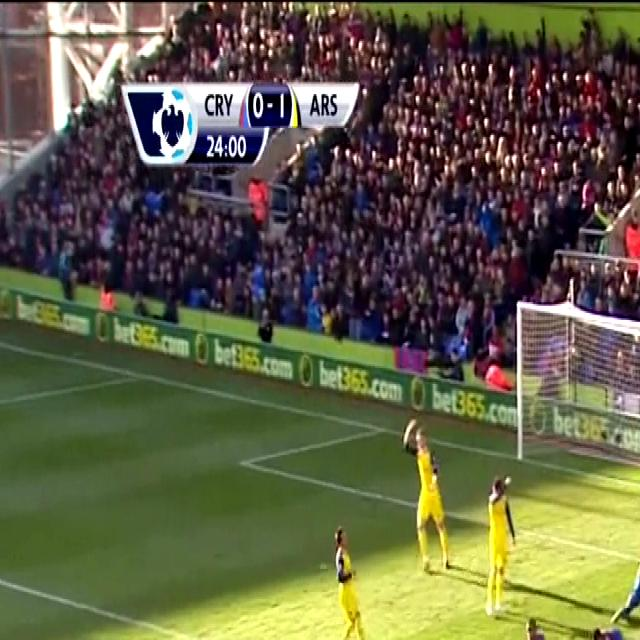soccer-player: (396, 399, 461, 581), (475, 472, 524, 626), (321, 517, 374, 640), (603, 537, 640, 631), (513, 615, 574, 640), (587, 613, 640, 640)
